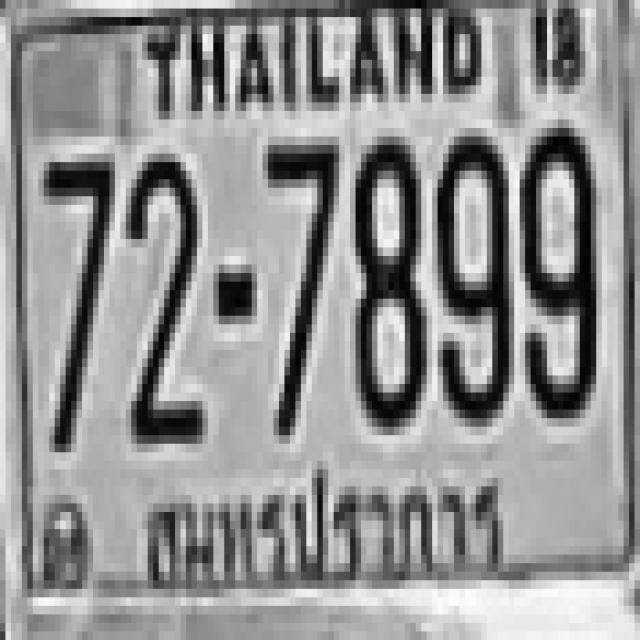2: (123, 150, 200, 440)
7: (262, 137, 334, 435), (39, 154, 110, 444), (262, 136, 334, 392), (39, 153, 110, 350)
8: (350, 132, 421, 422)
9: (432, 128, 509, 418), (517, 120, 593, 410)
SamutPrakan: (138, 461, 516, 597)
